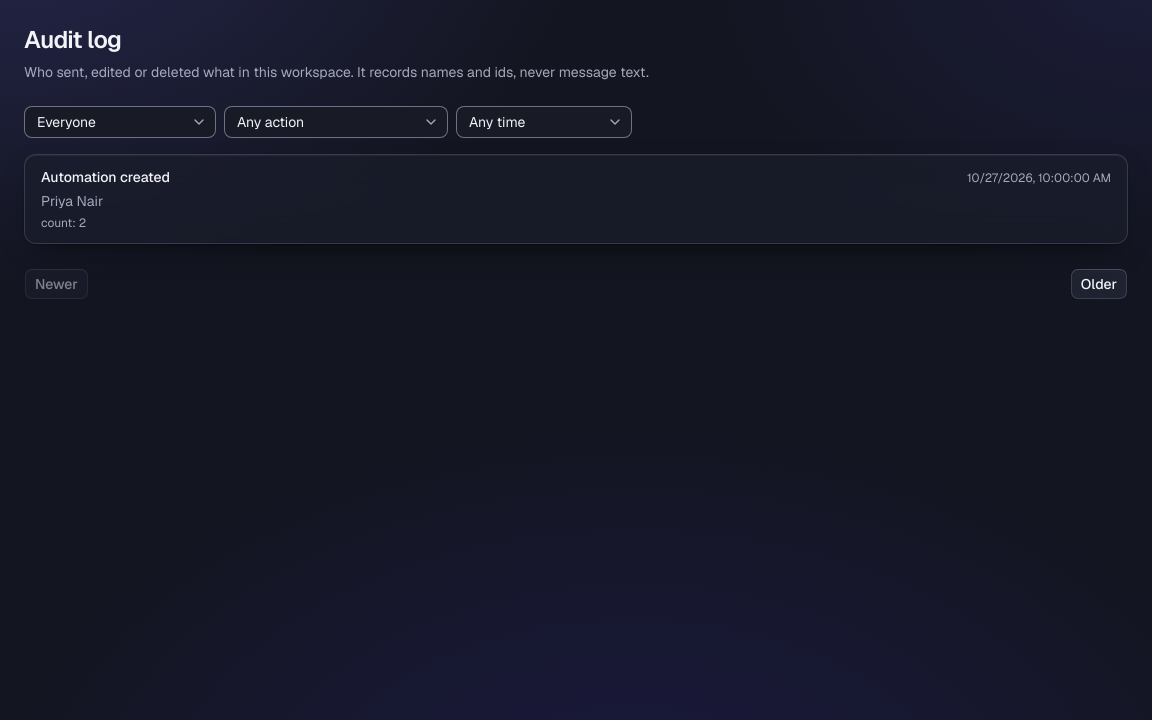
Test: AuditLogPage (GR-19) › filters by action and pages
Check: the list item with test id "audit-row" is shown, box [25,155,1127,243]
Click the button "Older".
click(1099, 284)  # box [1070,268,1128,300]
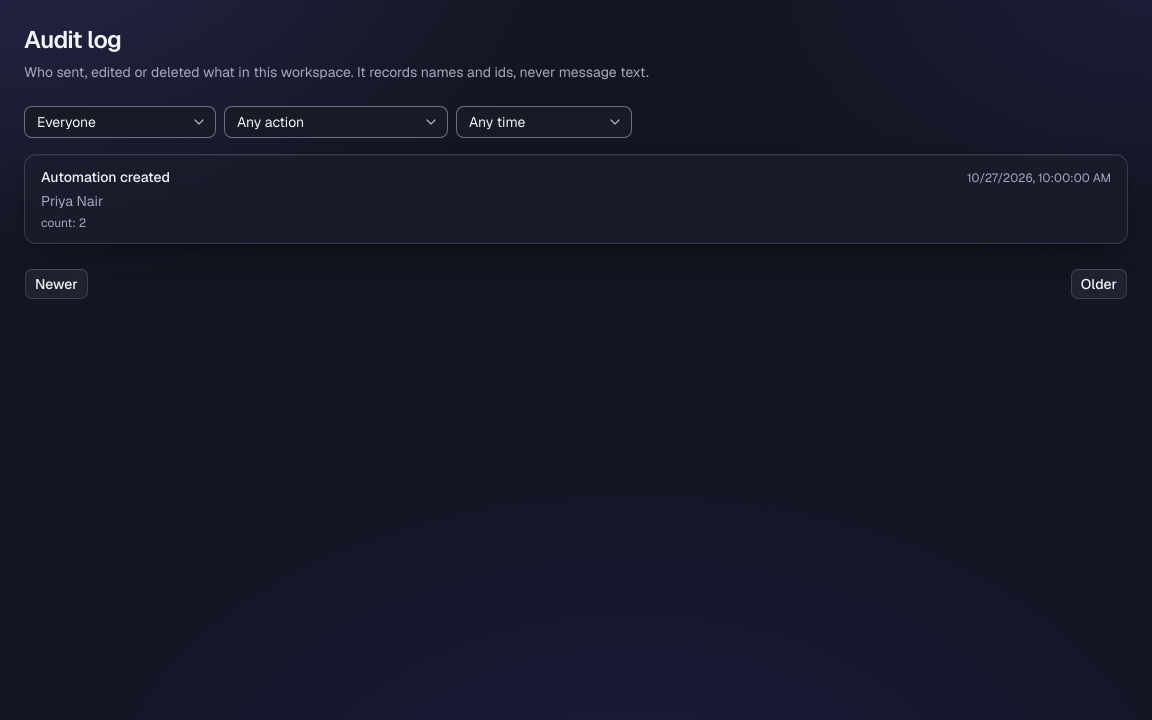
Check: the button "Newer" is enabled, box [24,268,89,300]
